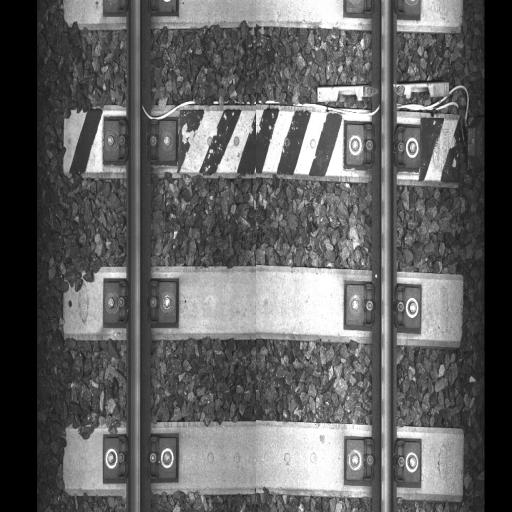sleeper: (62, 260, 464, 353), (63, 104, 466, 193), (62, 416, 464, 502), (64, 3, 463, 27)
